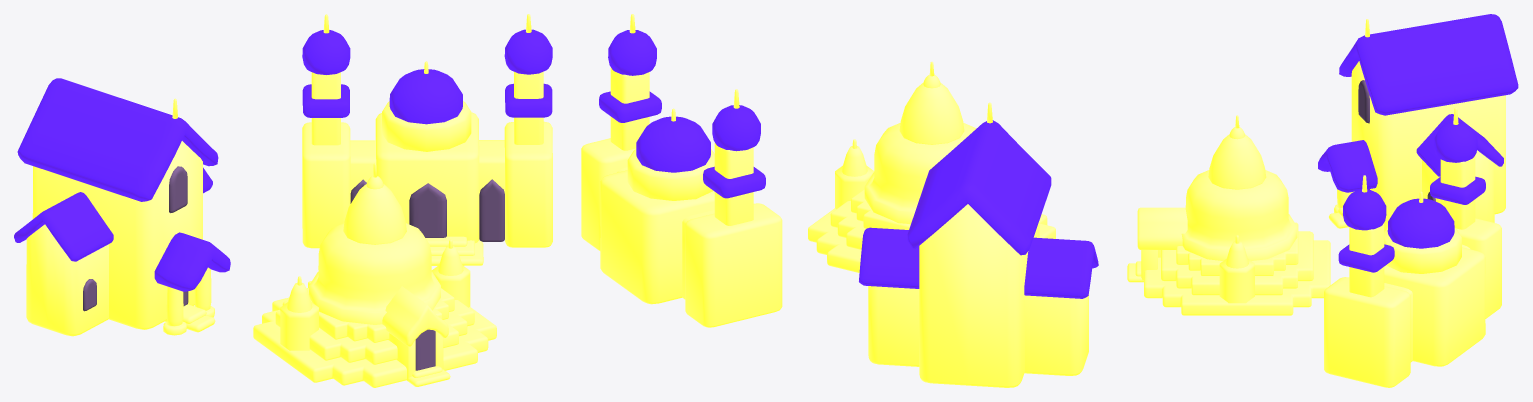
The model's file is Temples.gltf.
3 views of the same model, side by side, from view 1: azimuth 30°, elevation 25°; view 2: azimuth 150°, elevation 25°; view 3: azimuth 270°, elevation 25° (orthographic). The views are drawn at different scales.
Visible parts, largest first — view 1: temple01, temple02, temple03; view 2: temple01, temple02, temple03; view 3: temple02, temple01, temple03.
Part boxes in pixels (x1,y1,x2,y2): temple01: (14,78,230,336); temple02: (302,14,552,265); temple03: (253,163,496,387); temple01: (859,102,1098,387); temple02: (581,14,782,327); temple03: (808,61,1055,272); temple02: (1324,107,1501,387); temple01: (1318,14,1518,231); temple03: (1127,115,1330,315).
Size of the model in its own units: 14.53 by 5.9 by 10.48.
